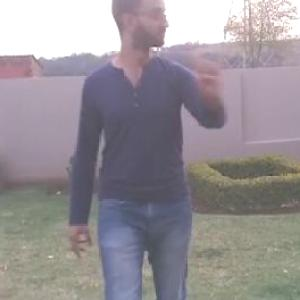takeoff-hand: (189, 36, 233, 94)
